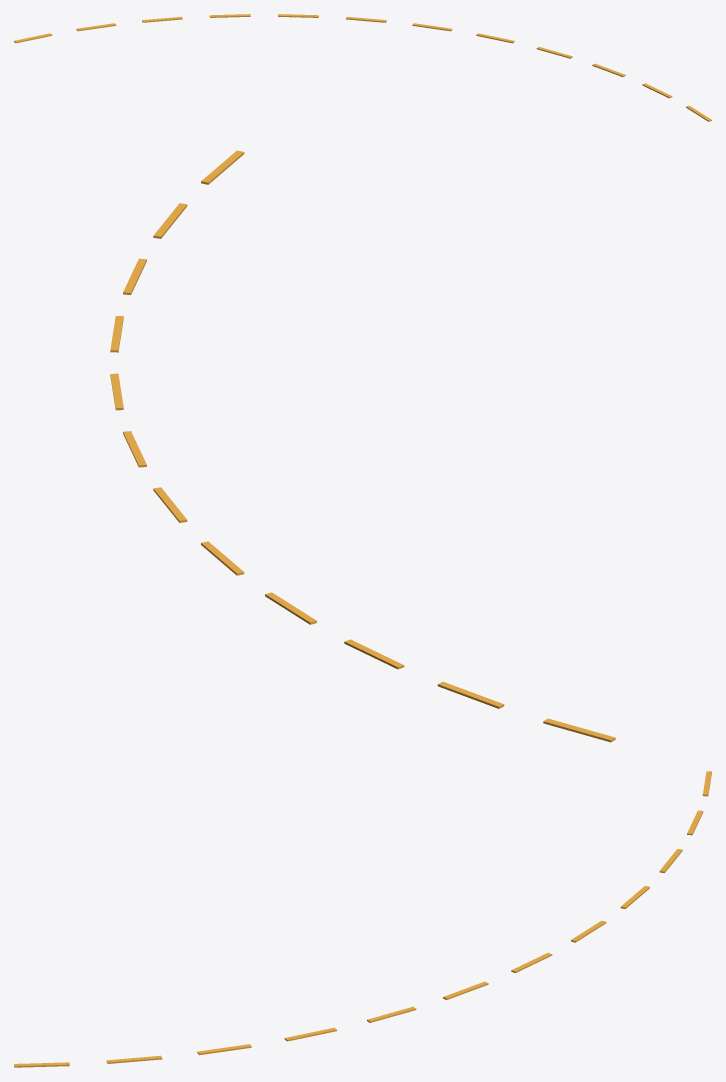
The model's file is Road_Curve90_R9m_CenterMarkings.glb.
3 views of the same model, one above another, from view 1: azimuth 30°, elevation 25°; view 2: azimuth 150°, elevation 25°; view 3: azimuth 270°, elevation 25° (orthographic). The views are drawn at different scales.
Parts seen in each view (by area): view 1: Road_Curve90_R9m_CenterMarkings; view 2: Road_Curve90_R9m_CenterMarkings; view 3: Road_Curve90_R9m_CenterMarkings.
Part boxes in pixels (bbox=[...]): Road_Curve90_R9m_CenterMarkings: bbox=[14, 14, 711, 121]; Road_Curve90_R9m_CenterMarkings: bbox=[110, 150, 615, 742]; Road_Curve90_R9m_CenterMarkings: bbox=[14, 771, 711, 1067].
Size of the model in its own units: 8.8 by 0.02 by 8.8.
